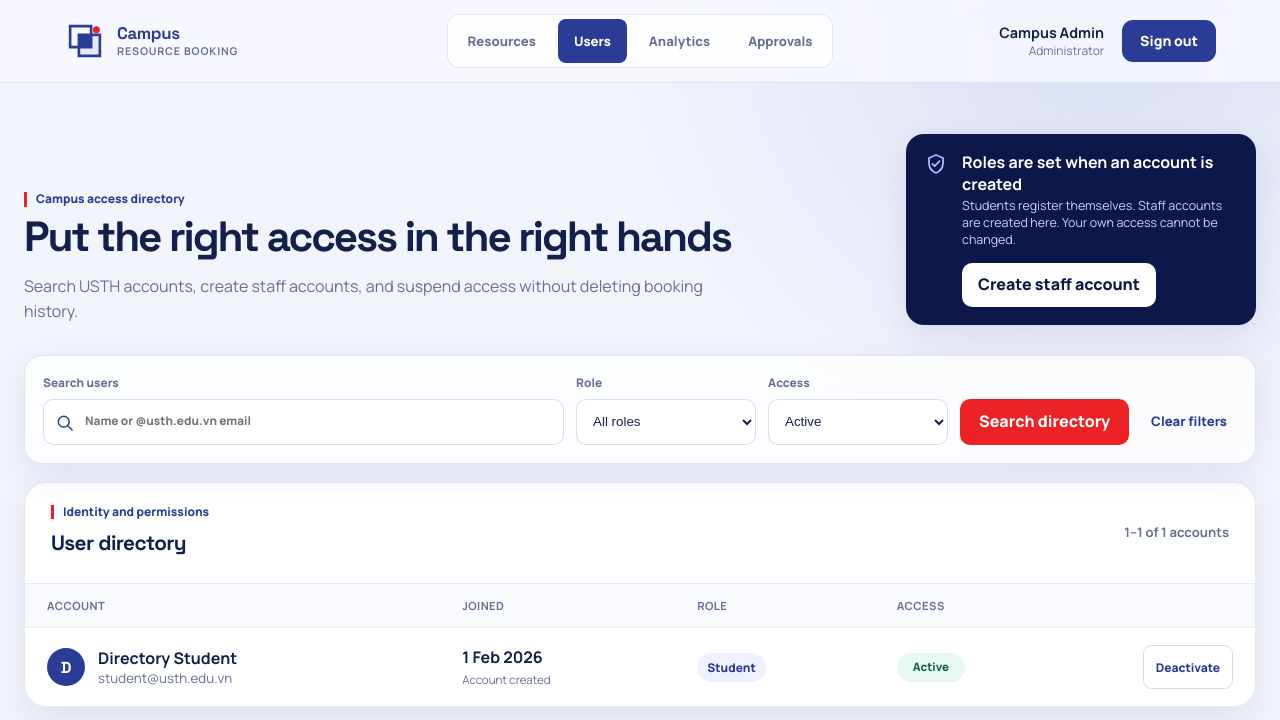
Test: AdminUserManager › removes a successful mutation from a filtered view
The width and height of the screenshot is (1280, 720).
Click the button "Deactivate" at {"x": 1188, "y": 667}, box [1143,645,1233,689]
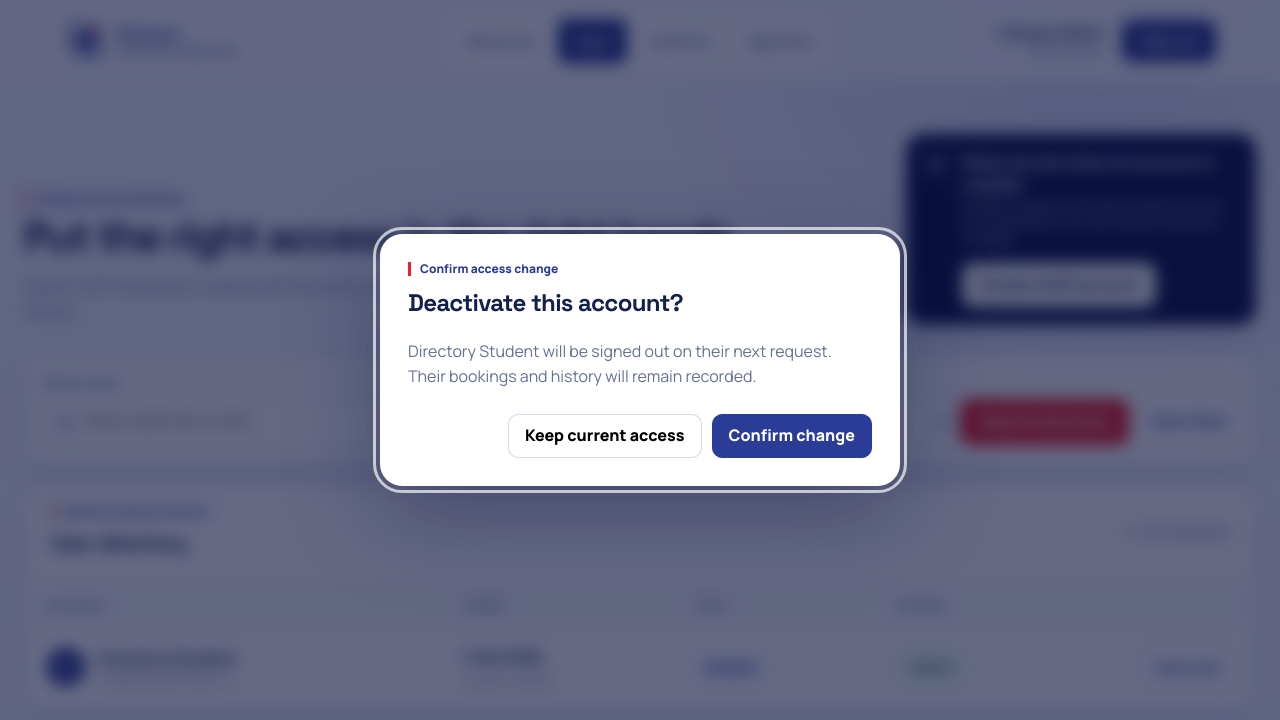
Click the button "Confirm change" at {"x": 792, "y": 436}, box [712,414,872,458]
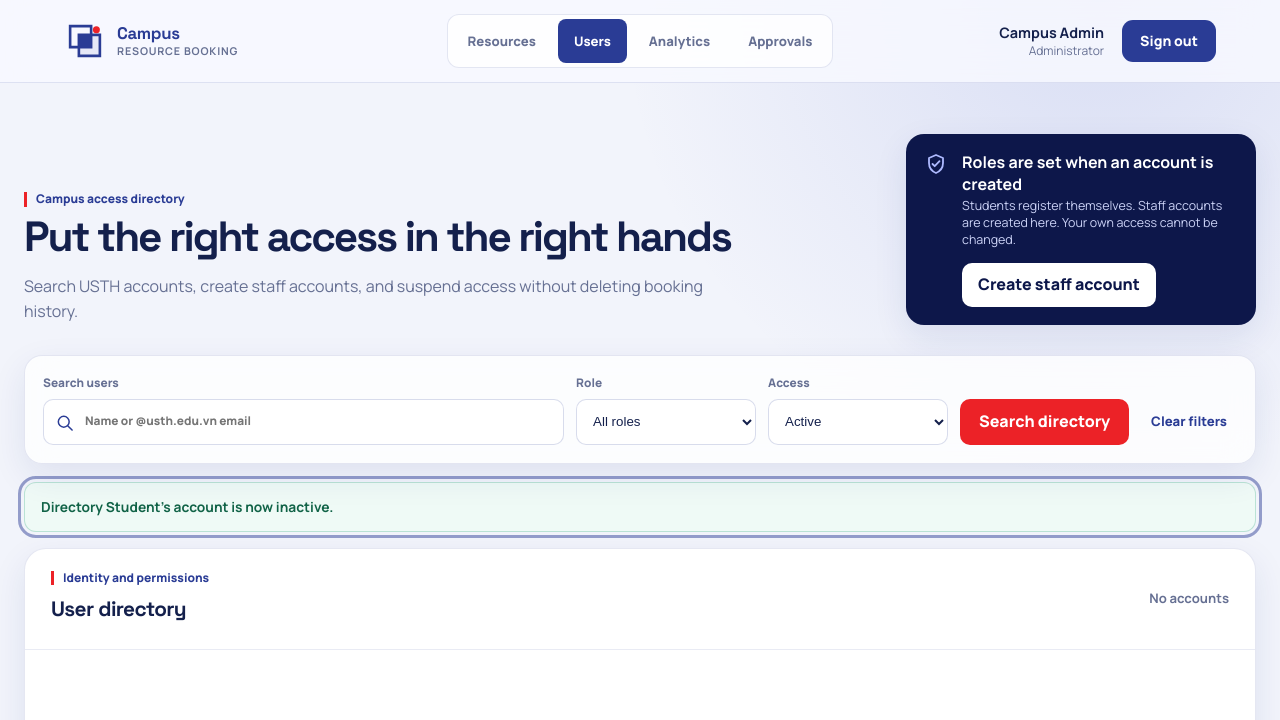
Expected: the text "No accounts" is shown, [1149,588,1229,609]
